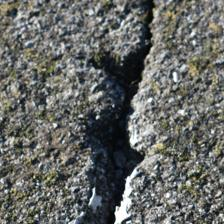Crack: (37, 6, 128, 214)
